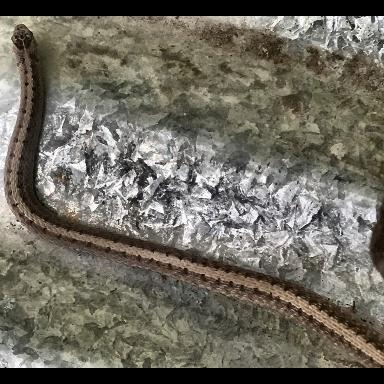snake: (5, 17, 384, 350)
